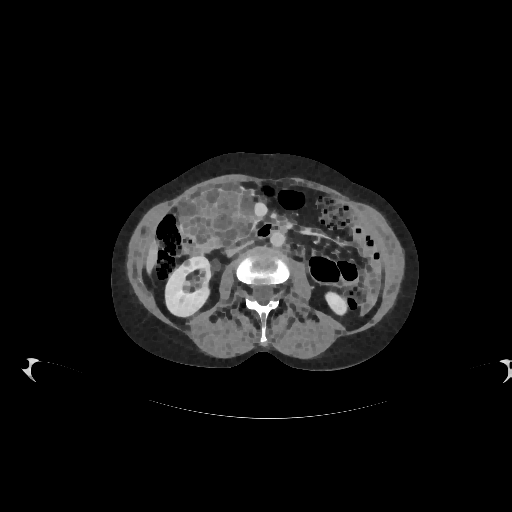Lesion: (181, 257, 192, 268)
